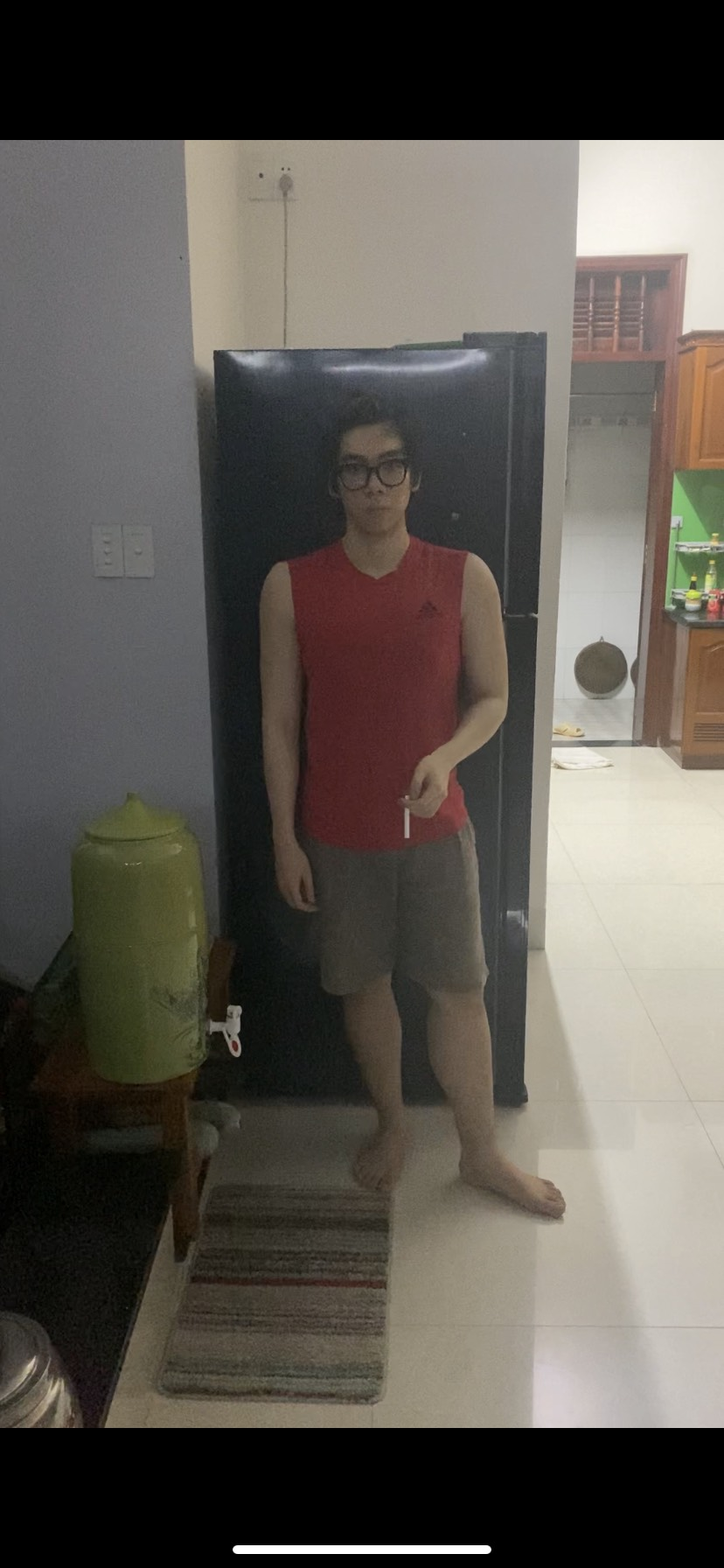cigarette: (399, 807, 414, 843)
person: (251, 375, 574, 1329)
